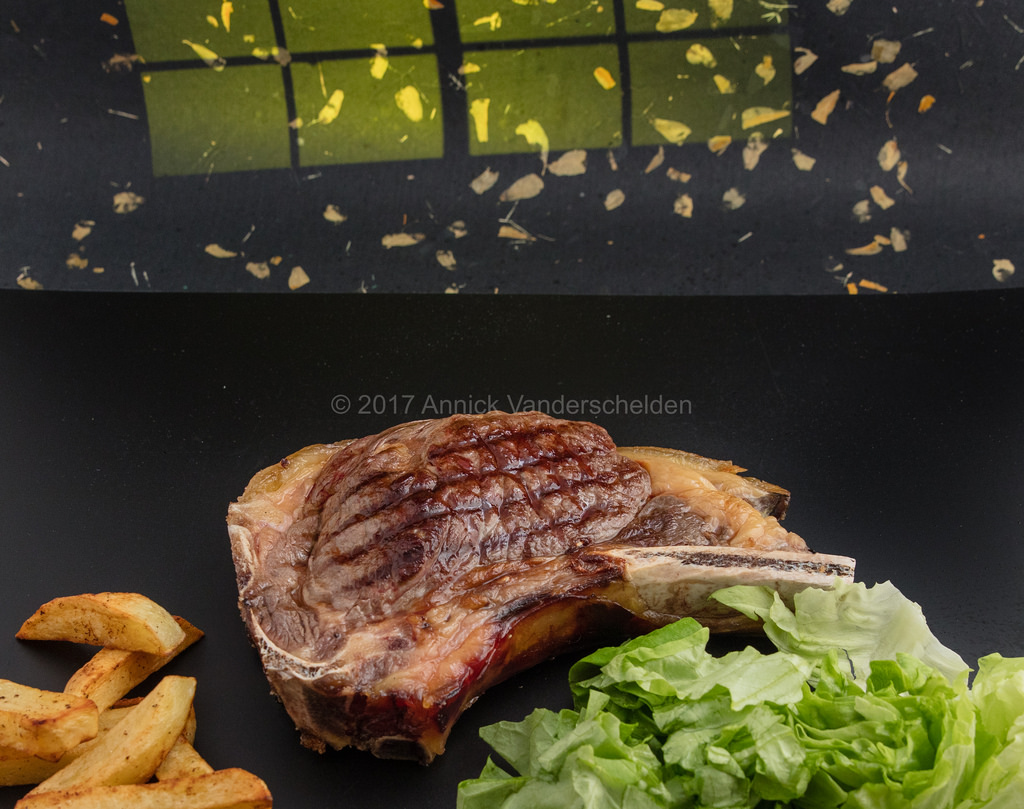chopped lettuce: (481, 624, 1024, 808)
